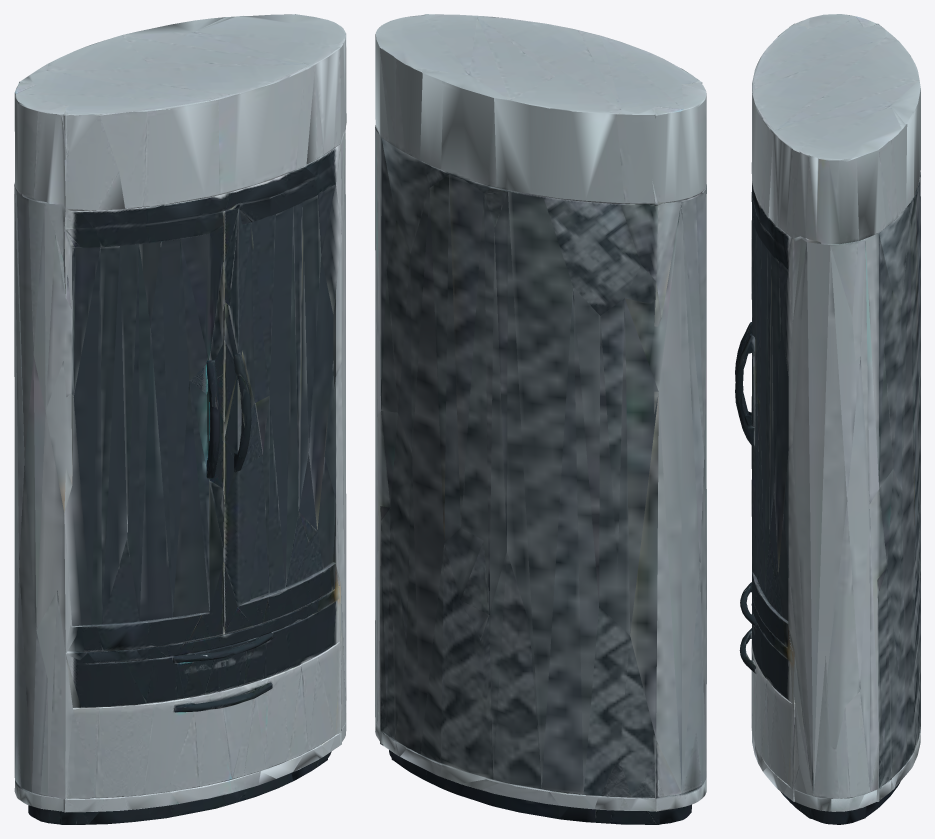
The model's file is cabinet.gltf.
The picture shows the model from 3 angles, left to right: view 1: azimuth 30°, elevation 25°; view 2: azimuth 150°, elevation 25°; view 3: azimuth 270°, elevation 25°; orthographic projection. The views are drawn at different scales.
Size of the model in its own units: 0.8891 by 1.9 by 0.4776.
1 material, 1 textured.
